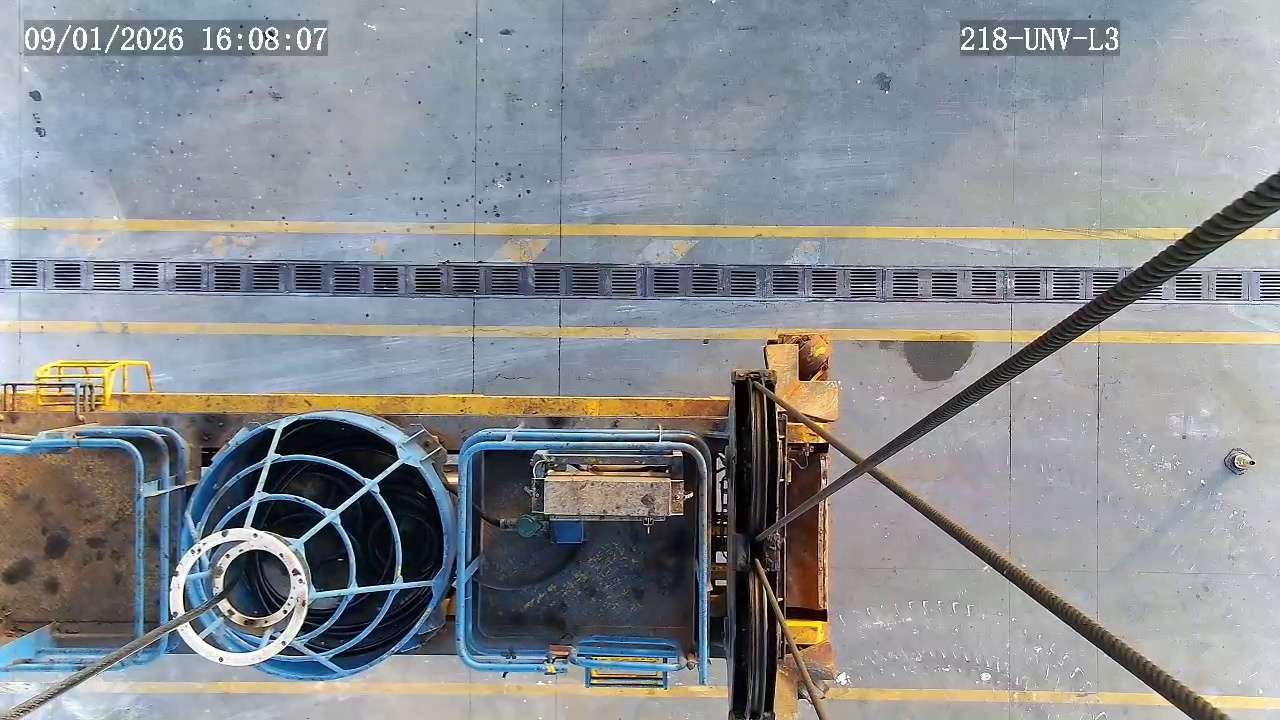right: (181, 414, 447, 679)
